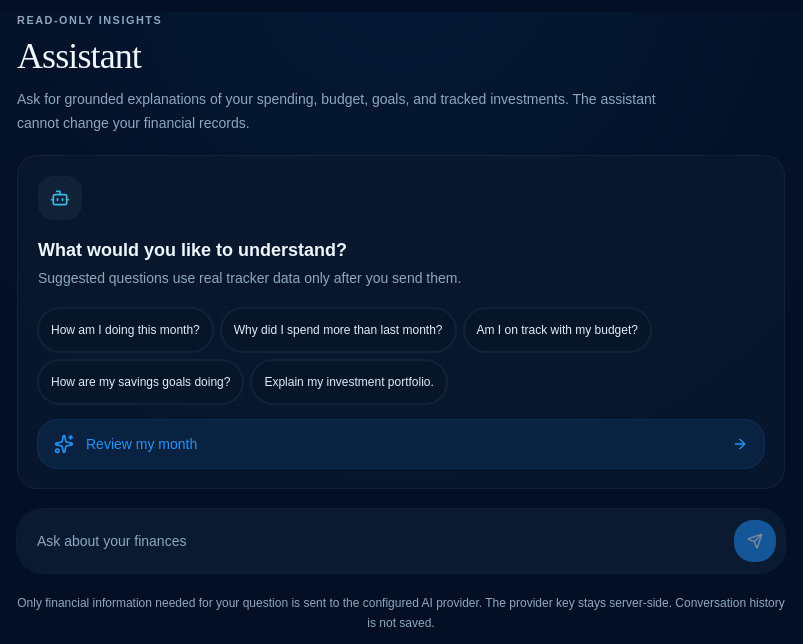
Test: AssistantPage › keeps send disabled for empty input and renders plain grounded answers
Expected: the button named "Send question" is disabled, x1=733 y1=519 x2=777 y2=563
Type "What did I spend on caifan?" into the field labelled "Ask about your finances".
click(375, 541); type("What did I spend on caifan?")  # box x1=25 y1=517 x2=725 y2=565
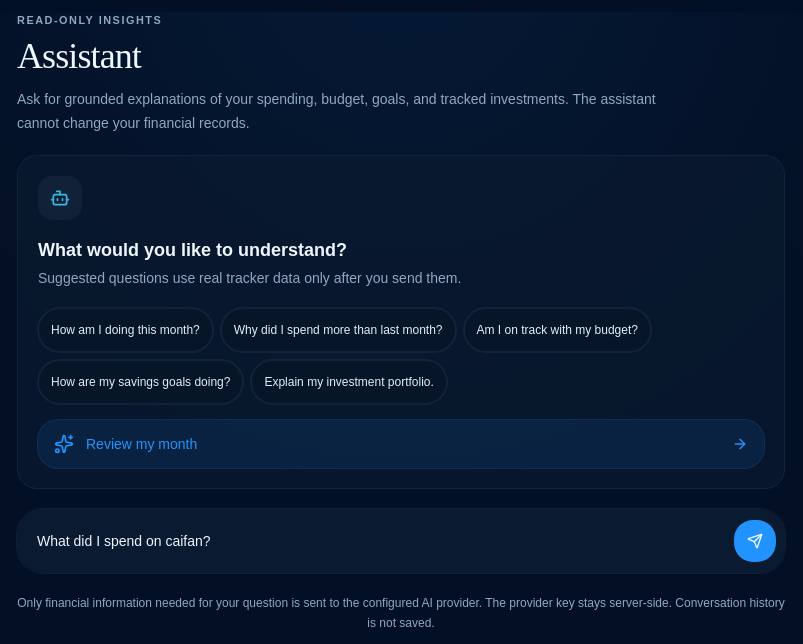
Click the button named "Send question".
click(755, 541)  # box x1=733 y1=519 x2=777 y2=563
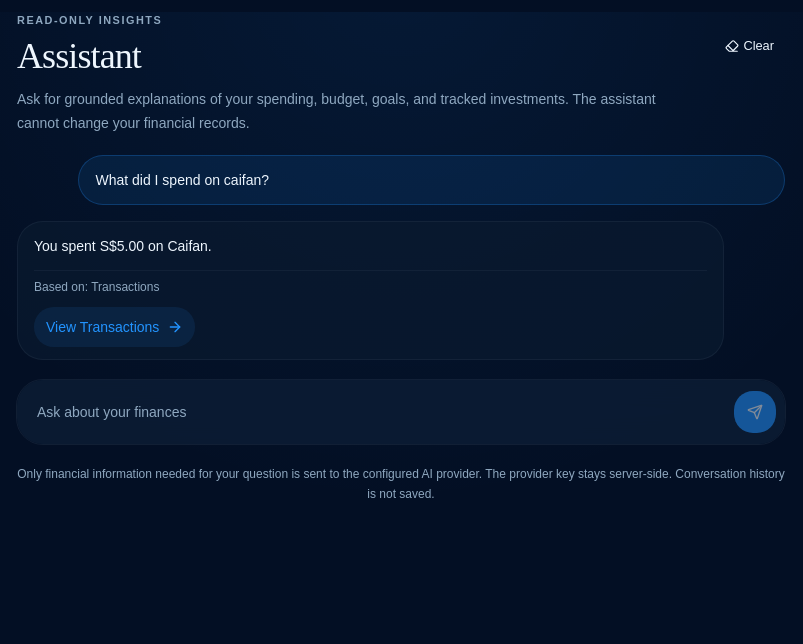
Now the text "You spent S$5.00 on Caifan." is shown, box x1=34 y1=238 x2=212 y2=254
Now the text "Based on: Transactions" is shown, box x1=34 y1=270 x2=706 y2=295
